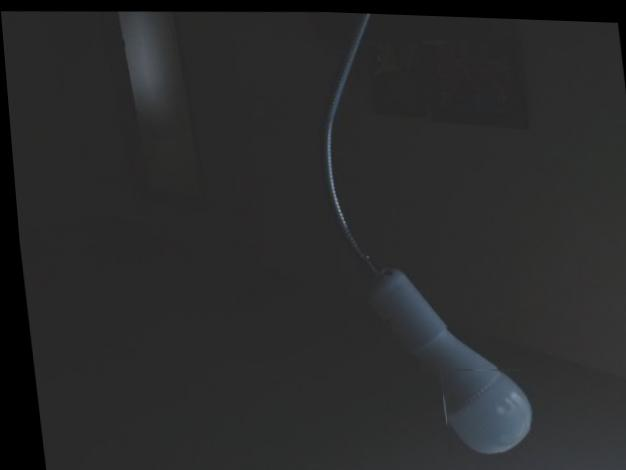Fan: (433, 362, 526, 451)
